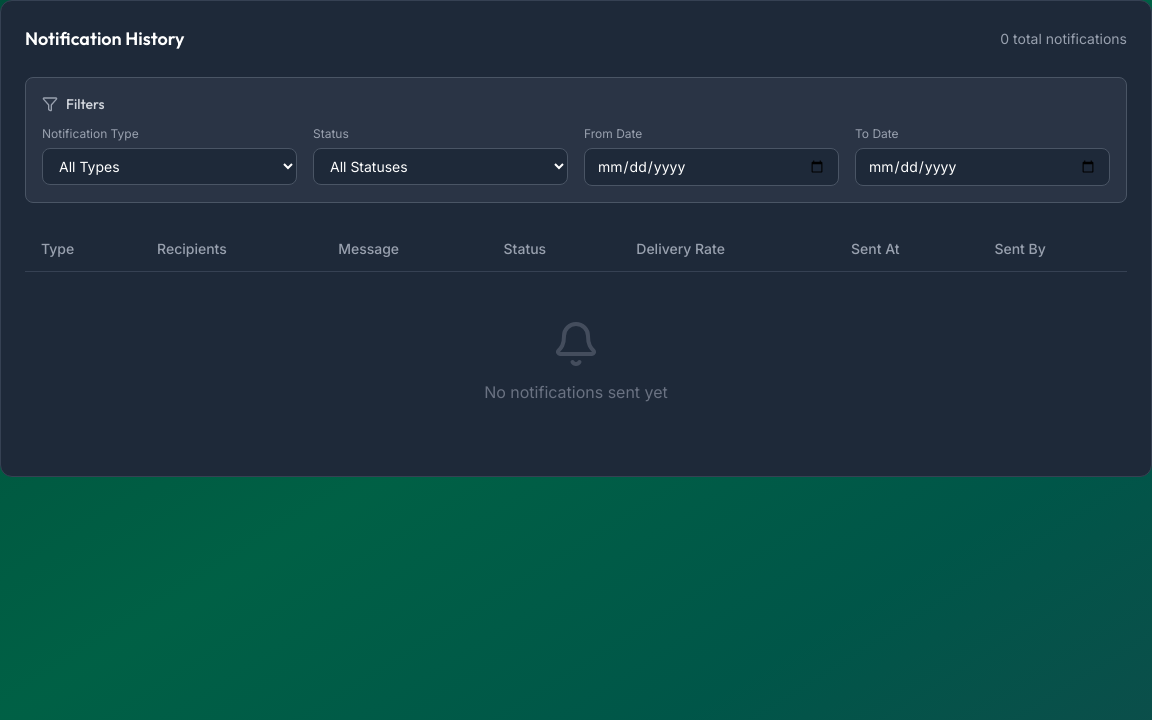
it: NotificationHistory › Filter Controls › should display clear filters button when filters are active
Expected: the text "Clear all filters" is not shown
Apply a filter
Select "SMS" in the dropdown labelled "Notification Type" at (170, 166), box [42,148,297,185]
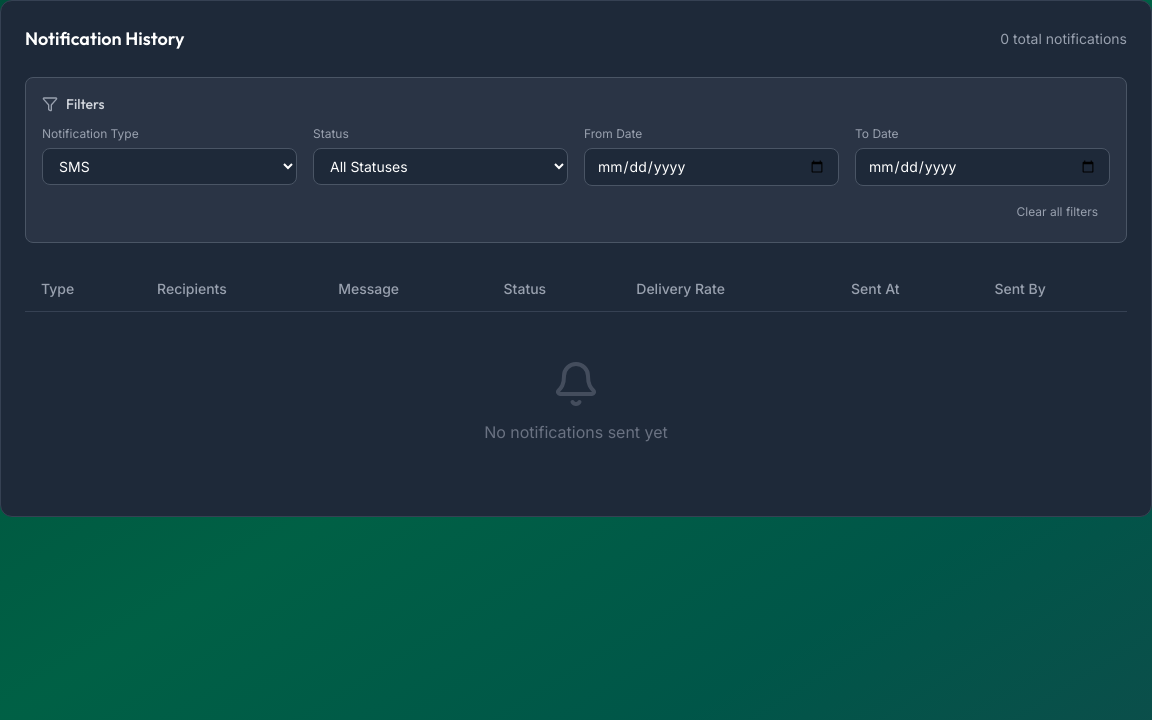
Now the button "Clear all filters" is shown, box [1005,198,1110,226]
